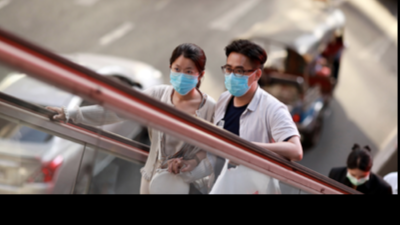with_mask: (222, 62, 254, 95), (168, 66, 199, 94), (345, 170, 369, 185)
